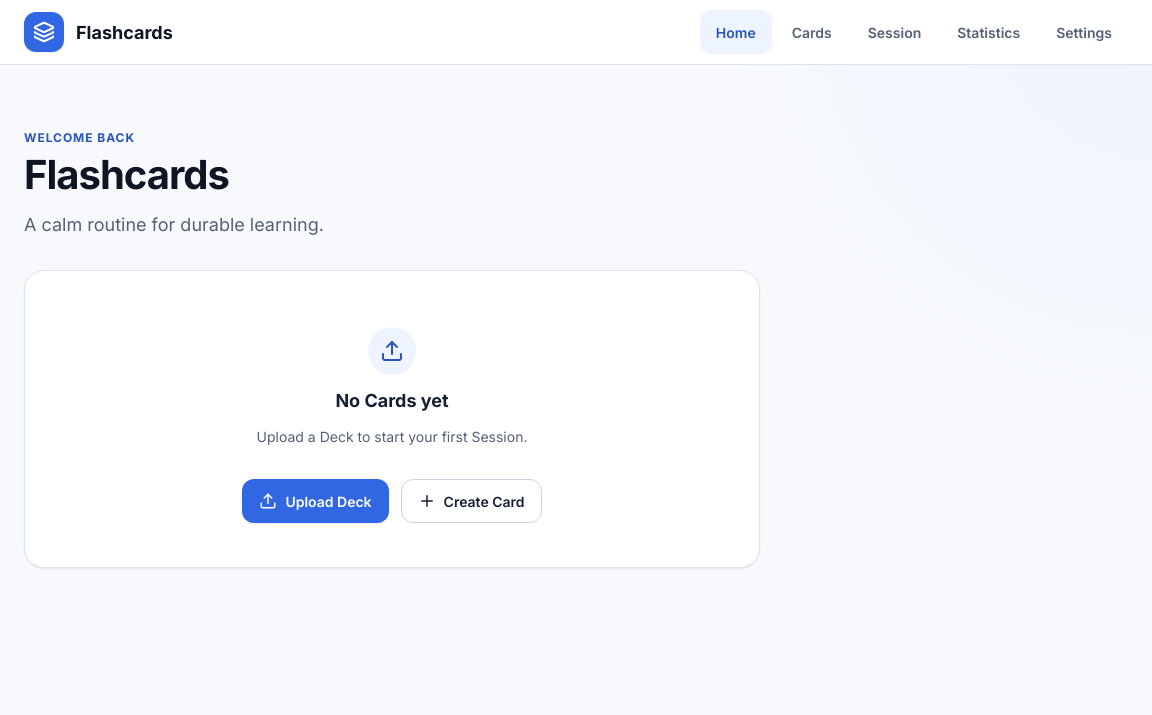
Statistics with no Cards shows 0 Cards, 0 Reviews and no share
This screenshot has width=1152, height=715.
Click the button "Statistics" at x=989, y=32, box [941, 10, 1036, 54]
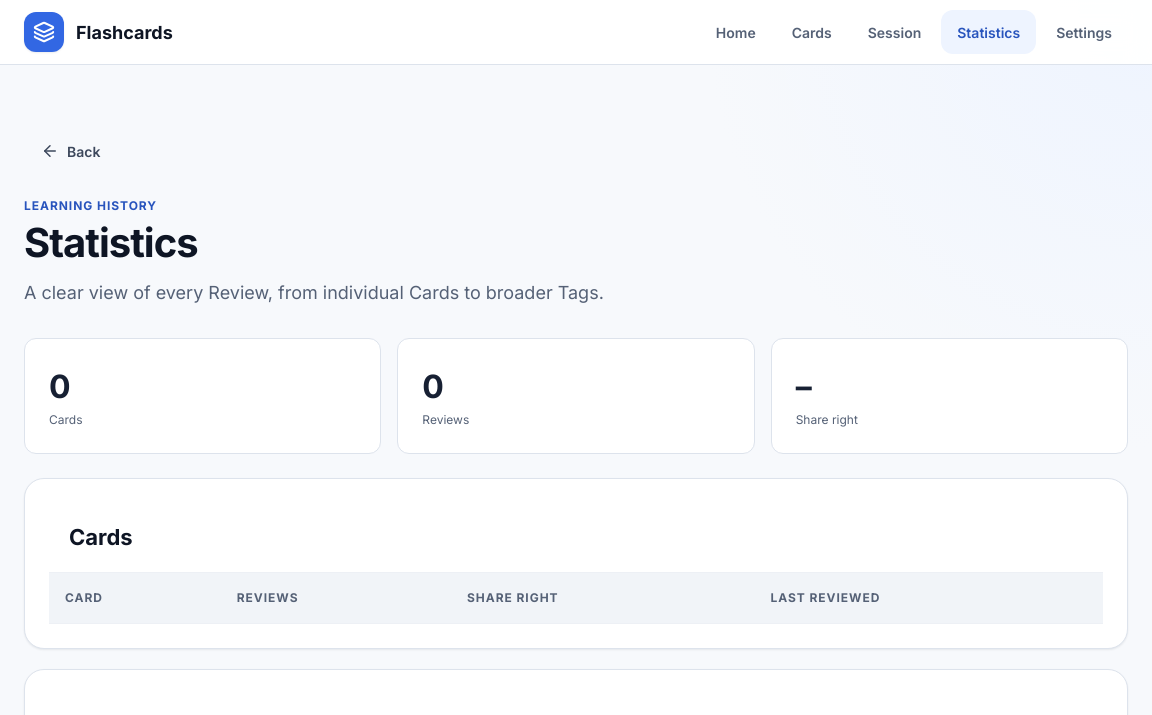
Check: the table named "Cards" is shown, box [49, 573, 1103, 624]
